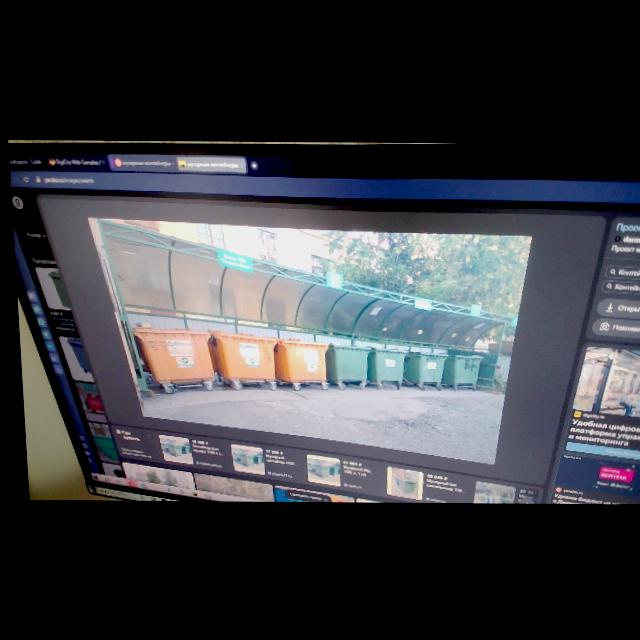Trash_Can_Empty: (127, 327, 211, 383), (209, 331, 274, 380), (269, 336, 326, 383), (320, 342, 369, 382), (398, 349, 445, 383), (361, 345, 405, 381), (435, 352, 481, 384)
